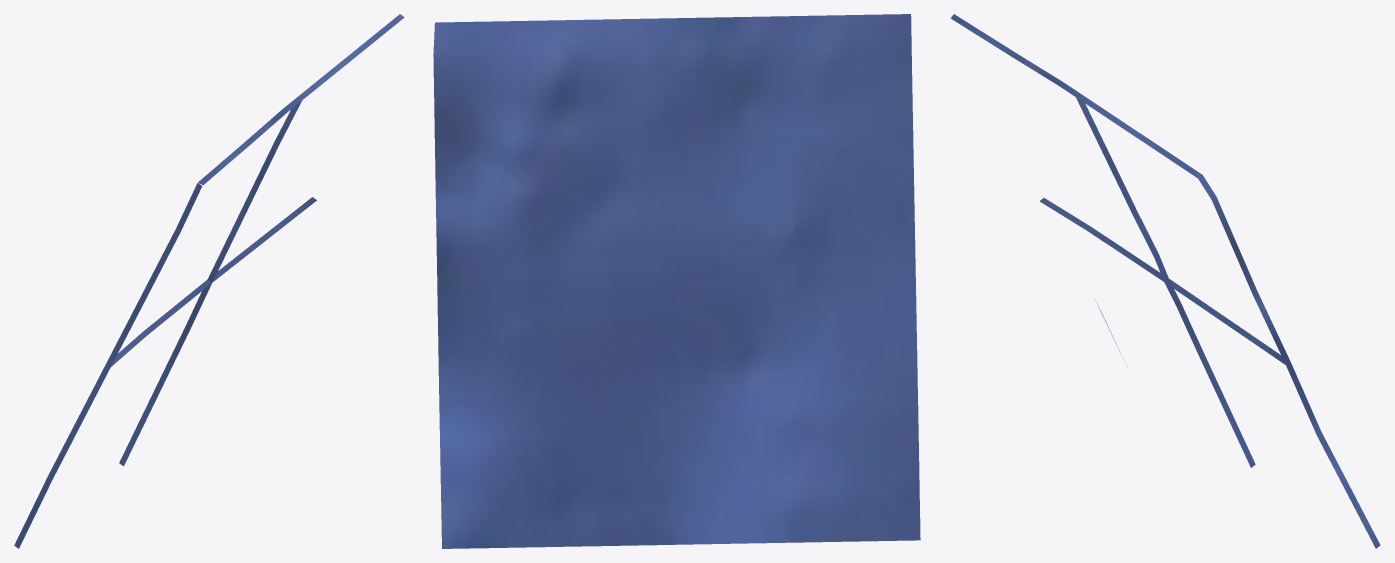
3 views of the same model, side by side, from view 1: azimuth 30°, elevation 25°; view 2: azimuth 150°, elevation 25°; view 3: azimuth 270°, elevation 25° (orthographic). The views are drawn at different scales.
Bounding box in the file's own units: 19450 × 18017 × 16718.
1 material, 1 textured.
